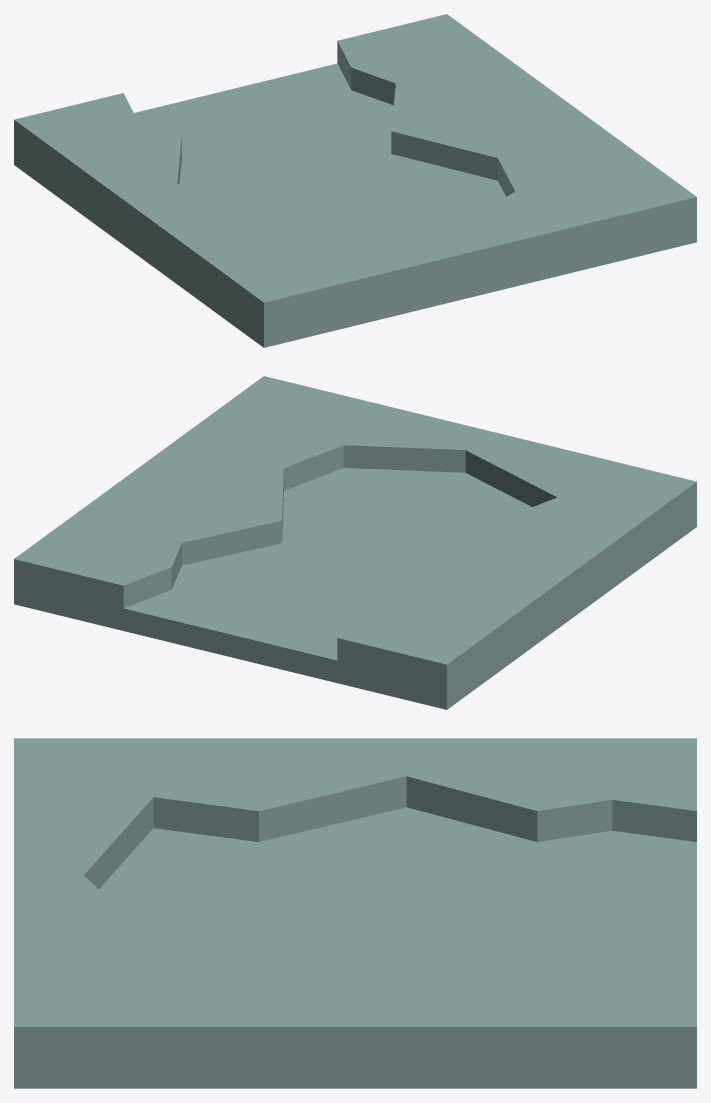
Rendered from naturePack_144.fbx.
The picture shows the model from 3 angles, top to bottom: view 1: azimuth 30°, elevation 25°; view 2: azimuth 150°, elevation 25°; view 3: azimuth 270°, elevation 25°; orthographic projection. The views are drawn at different scales.
Visible parts, largest first — view 1: naturePack_144; view 2: naturePack_144; view 3: naturePack_144.
Boxes of the visible parts, x1,y1,x2,y2 form: naturePack_144: (14, 14, 696, 347); naturePack_144: (14, 376, 696, 709); naturePack_144: (14, 738, 696, 1088).
Size of the model in its own units: 300 by 30 by 300.
